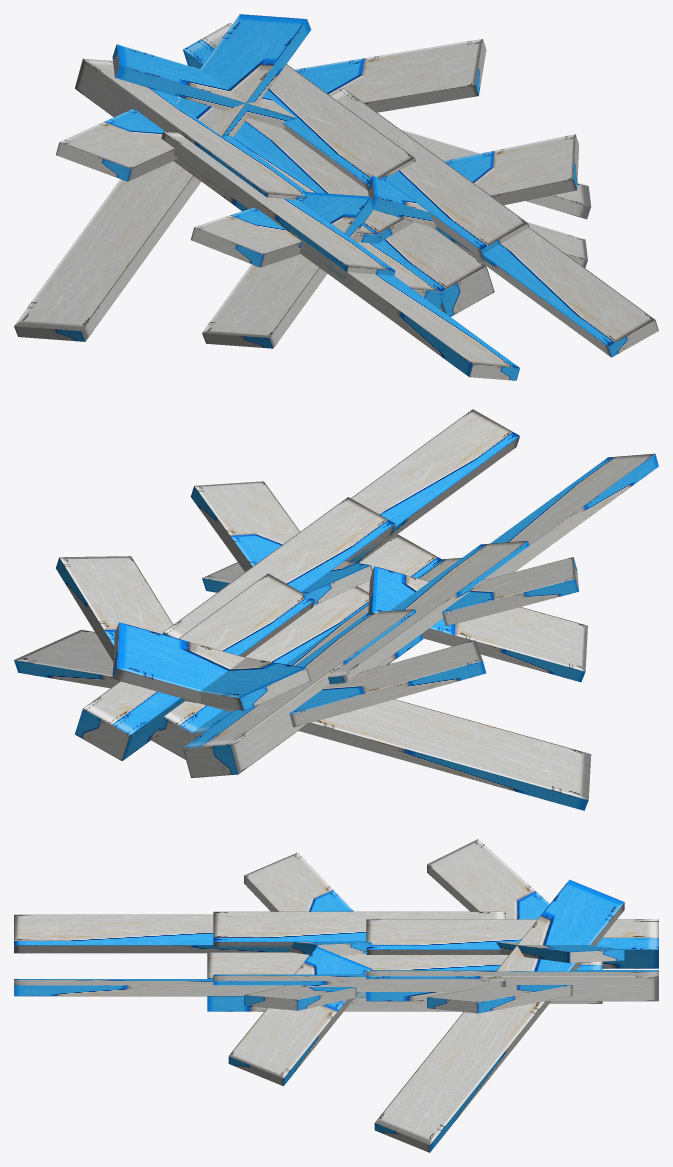
The model's file is F_shipclass2.fbx.
3 views of the same model, one above another, from view 1: azimuth 30°, elevation 25°; view 2: azimuth 150°, elevation 25°; view 3: azimuth 270°, elevation 25° (orthographic). The views are drawn at different scales.
Parts seen in each view (by area): view 1: Friendlyship02; view 2: Friendlyship02; view 3: Friendlyship02.
Part boxes in pixels (<box>): Friendlyship02: <box>14,14,658,380</box>; Friendlyship02: <box>14,409,658,810</box>; Friendlyship02: <box>14,839,658,1152</box>.
Size of the model in its own units: 460 by 123 by 565.
Materials: 1 (1 with a texture image).
